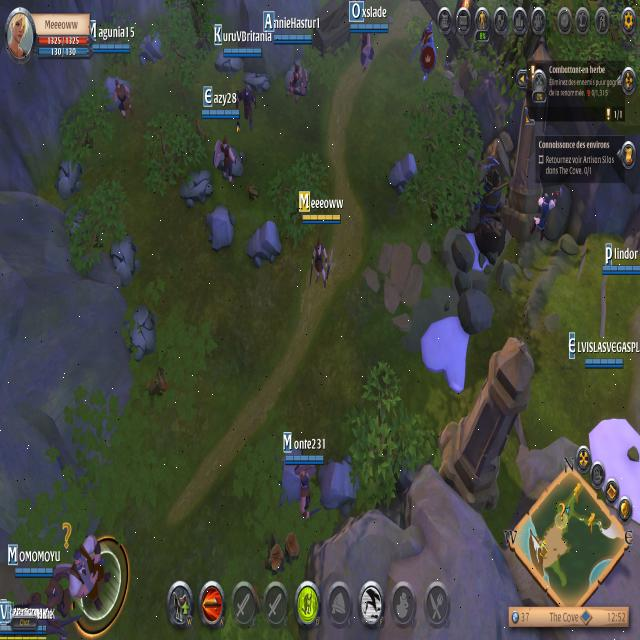broken stone: (122, 300, 160, 368), (106, 230, 142, 289), (175, 161, 214, 211), (52, 148, 83, 204), (214, 41, 241, 80), (243, 66, 270, 98)
stone: (316, 454, 360, 516), (243, 218, 283, 270), (276, 440, 304, 510), (202, 203, 236, 256), (386, 151, 419, 196), (98, 70, 131, 114), (134, 28, 166, 68)
